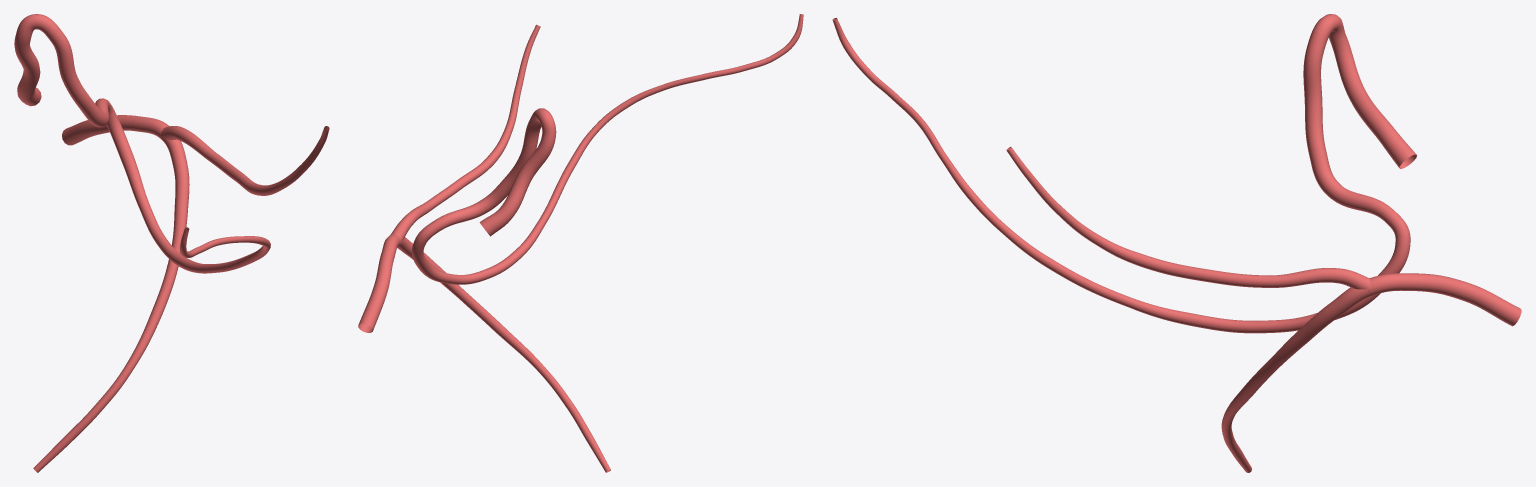
File: Lateral_frontobasal_artery.l_BezierCurve.231.glb
The picture shows the model from 3 angles, left to right: view 1: azimuth 30°, elevation 25°; view 2: azimuth 150°, elevation 25°; view 3: azimuth 270°, elevation 25°; orthographic projection. The views are drawn at different scales.
Visible parts, largest first — view 1: Lateral_frontobasal_artery.l_BezierCurve.231; view 2: Lateral_frontobasal_artery.l_BezierCurve.231; view 3: Lateral_frontobasal_artery.l_BezierCurve.231.
Boxes of the visible parts, left/top/right/bottom form: Lateral_frontobasal_artery.l_BezierCurve.231: left=14, top=14, right=329, bottom=472; Lateral_frontobasal_artery.l_BezierCurve.231: left=358, top=14, right=803, bottom=472; Lateral_frontobasal_artery.l_BezierCurve.231: left=832, top=14, right=1521, bottom=472.
Size of the model in its own units: 0.0236 by 0.0418 by 0.0547.
